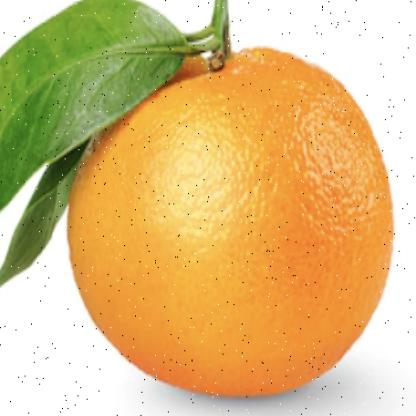orange: (23, 38, 393, 401)
